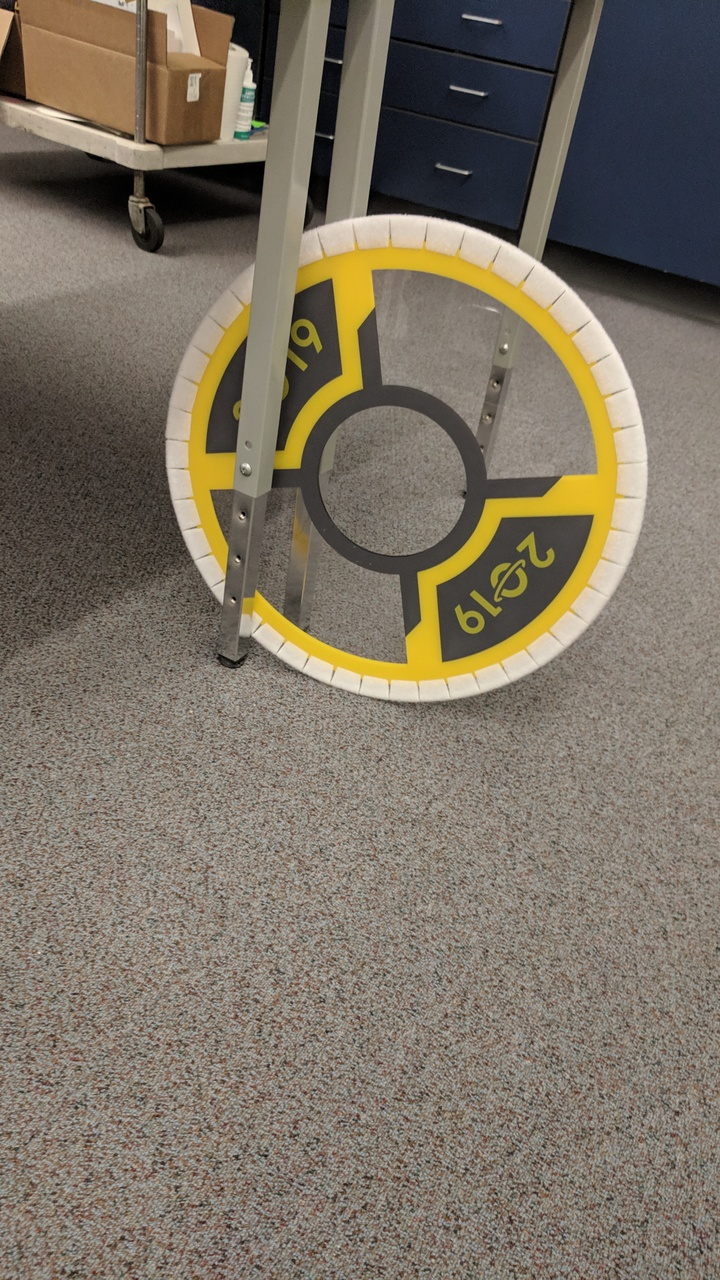hatch_panel: (167, 207, 652, 708)
